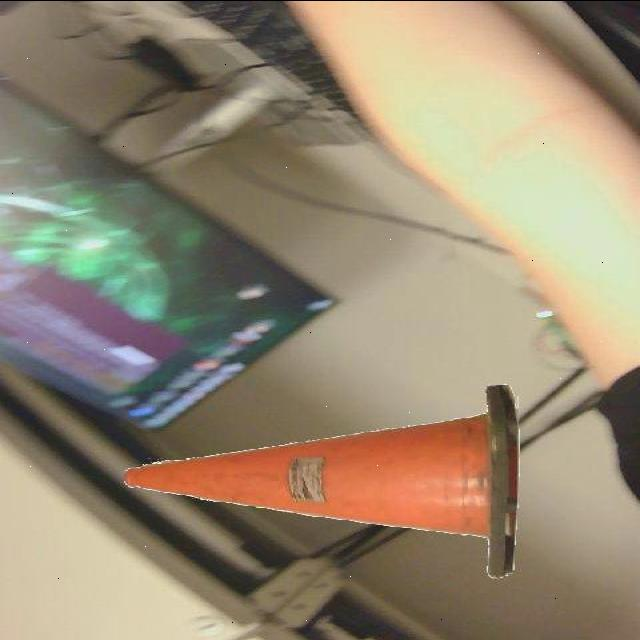traffic cone: (113, 380, 532, 585)
